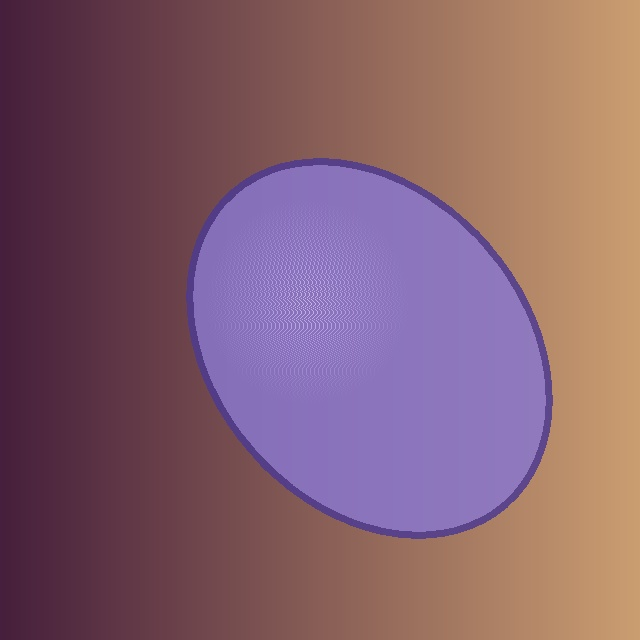lens: (190, 162, 548, 534)
